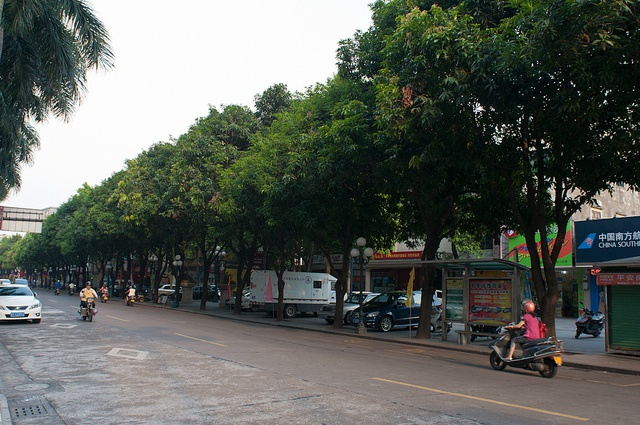non-vehicle: (489, 324, 562, 377), (574, 300, 605, 339), (429, 298, 452, 334), (470, 323, 501, 341), (77, 297, 97, 321), (97, 288, 109, 303), (124, 292, 136, 306), (135, 289, 143, 303), (53, 286, 63, 295), (67, 285, 75, 295)
